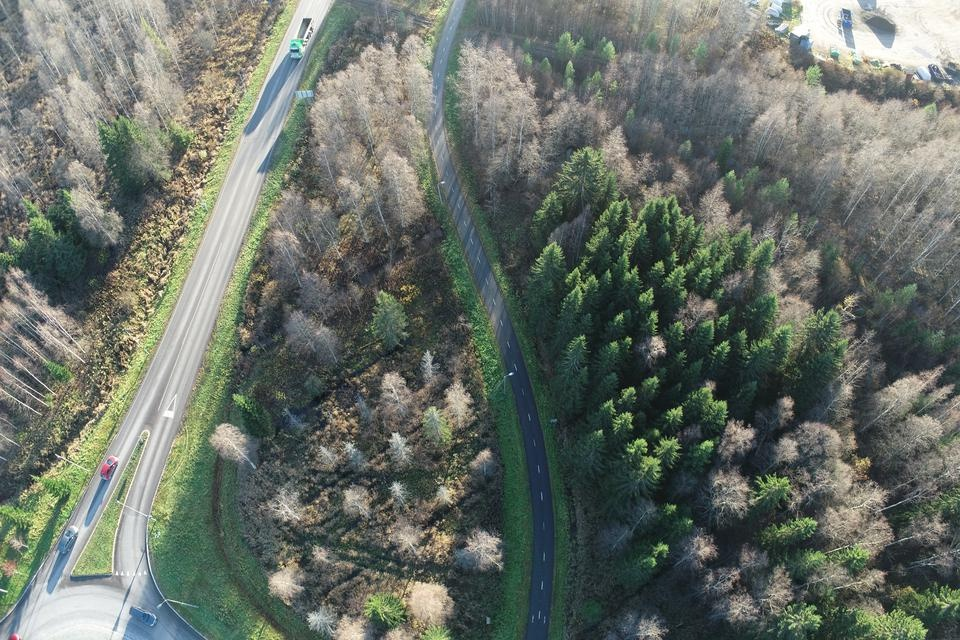roundabout: (0, 522, 242, 640)
